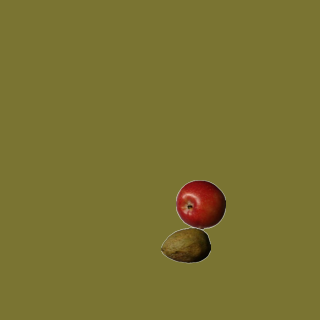Apple Braeburn: (175, 179, 225, 229)
Papaya: (160, 220, 210, 270)
